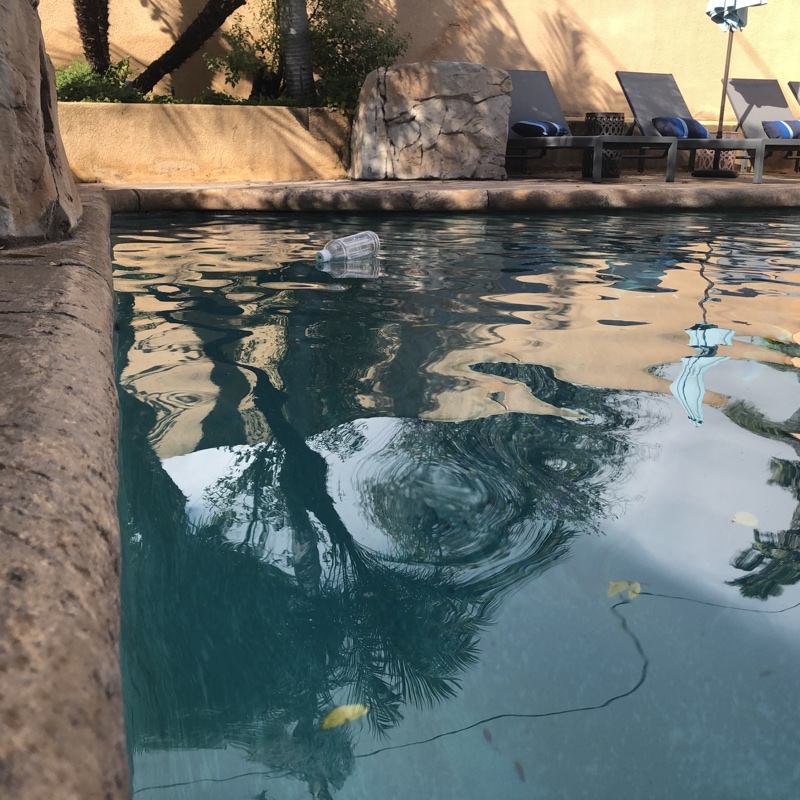Plastic Bottle: (311, 230, 384, 268)
